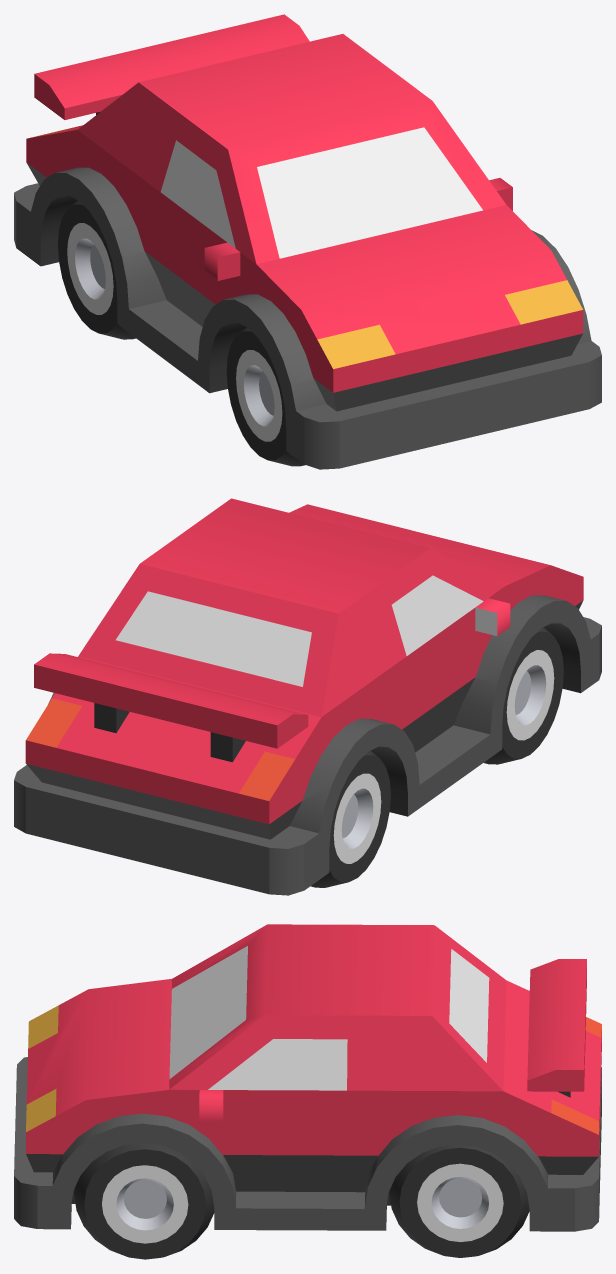
File: sedanSports.glb
3 renders of one model, top to bottom at view 1: azimuth 30°, elevation 25°; view 2: azimuth 150°, elevation 25°; view 3: azimuth 270°, elevation 25°, orthographic. The views are drawn at different scales.
Parts seen in each view (by area): view 1: body, spoiler, frontRight-wheel, rearRight-wheel; view 2: body, spoiler, rearRight-wheel, frontRight-wheel; view 3: body, frontLeft-wheel, rearLeft-wheel, spoiler.
Part boxes in pixels (x1,y1,x2,y2): body: (14, 34, 601, 469); spoiler: (34, 14, 309, 119); frontRight-wheel: (226, 327, 305, 466); rearRight-wheel: (57, 200, 135, 339); body: (14, 498, 601, 895); spoiler: (34, 653, 308, 762); rearRight-wheel: (310, 750, 390, 887); frontRight-wheel: (483, 627, 563, 764); body: (14, 924, 601, 1231); frontLeft-wheel: (74, 1143, 214, 1259); rearLeft-wheel: (389, 1144, 529, 1257); spoiler: (527, 959, 586, 1097).
Size of the model in its own units: 1.32 by 1.1 by 2.46.
